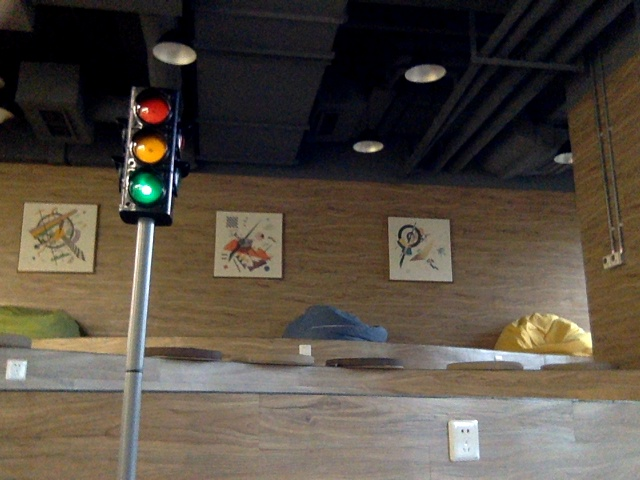green: (131, 95, 164, 208)
